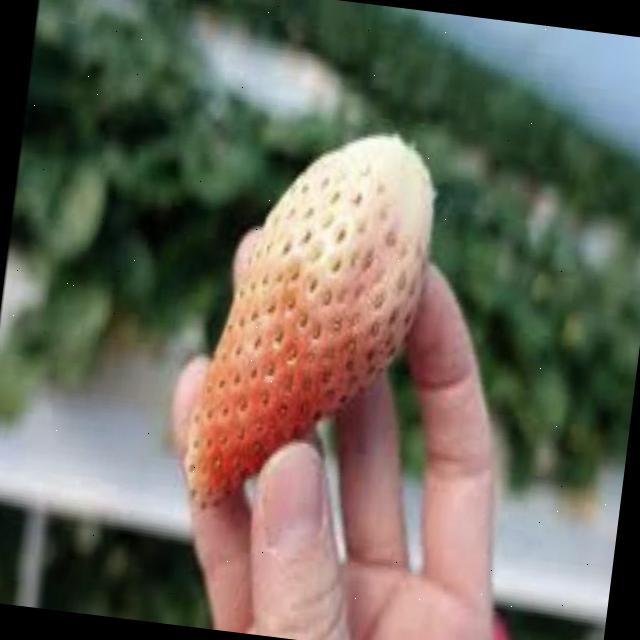strawberry: (175, 110, 442, 528)
